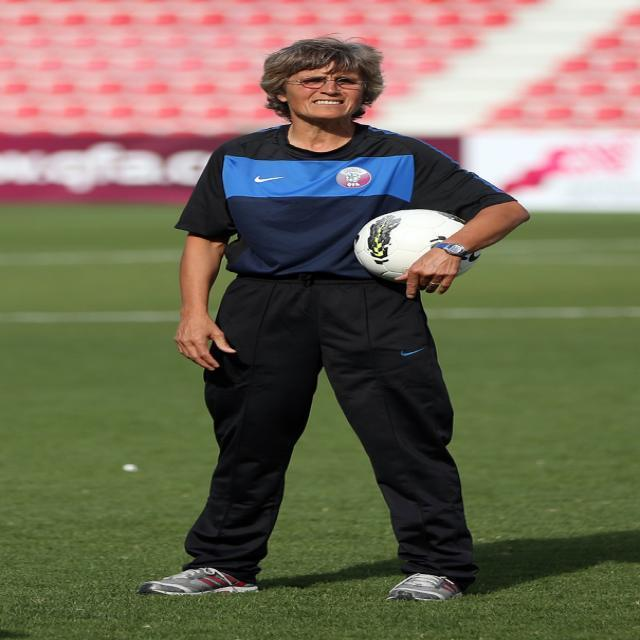ball: (353, 206, 486, 286)
